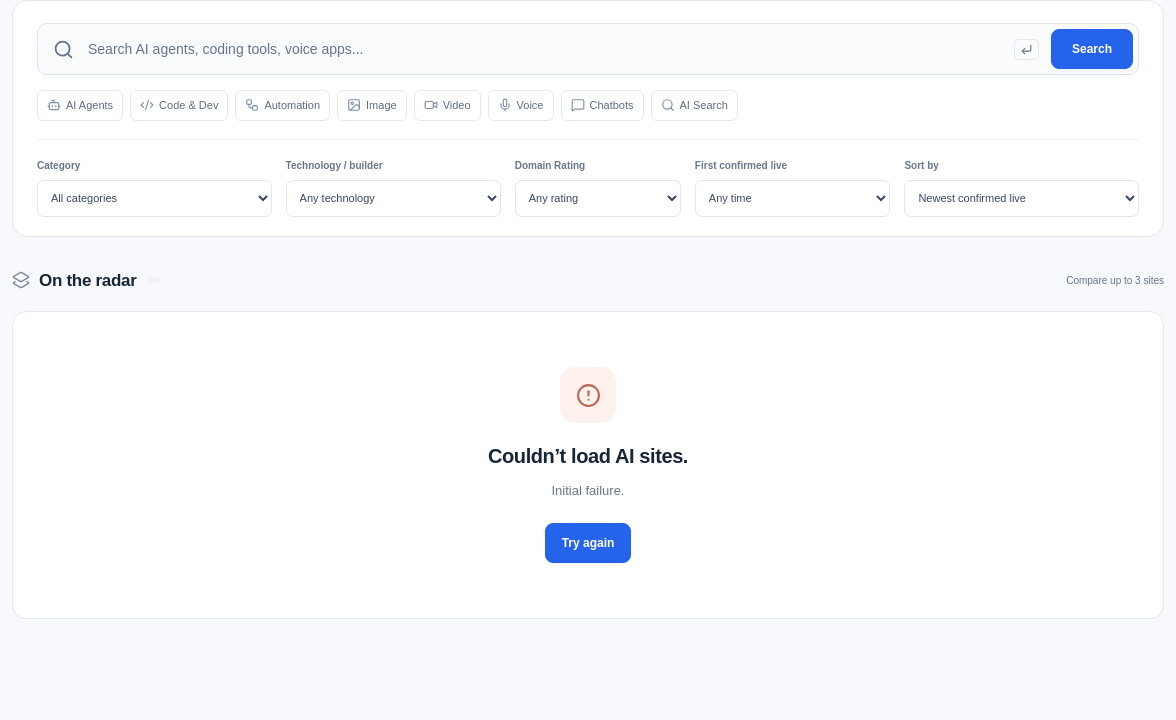
Test: discovery interactions › keeps unreadable proxy failures out of the user-facing error
Step 1. Click the button "Try again" → (588,542), box [545,522,631,562]
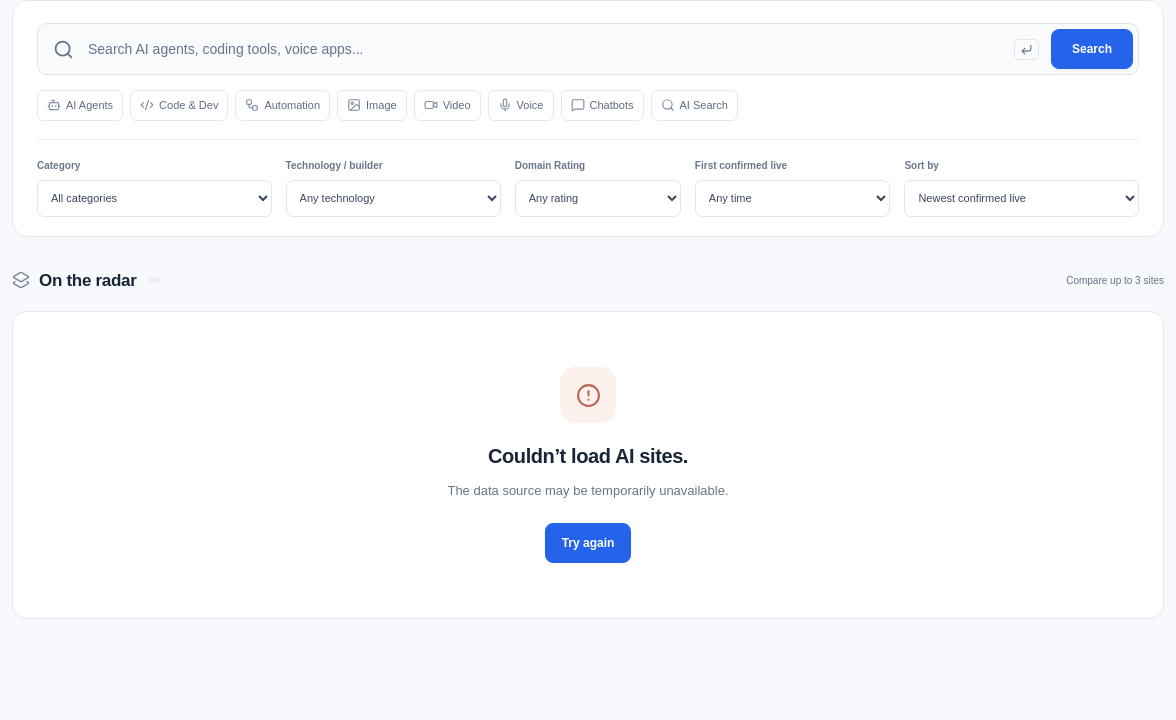
Expected: the message that starts with "Couldn’t load AI sites." does not show "Unexpected token", [12,311,1164,618]
Expected: the message that starts with "Couldn’t load AI sites." shows "The data source may be temporarily unavailable.", [448,483,729,498]
